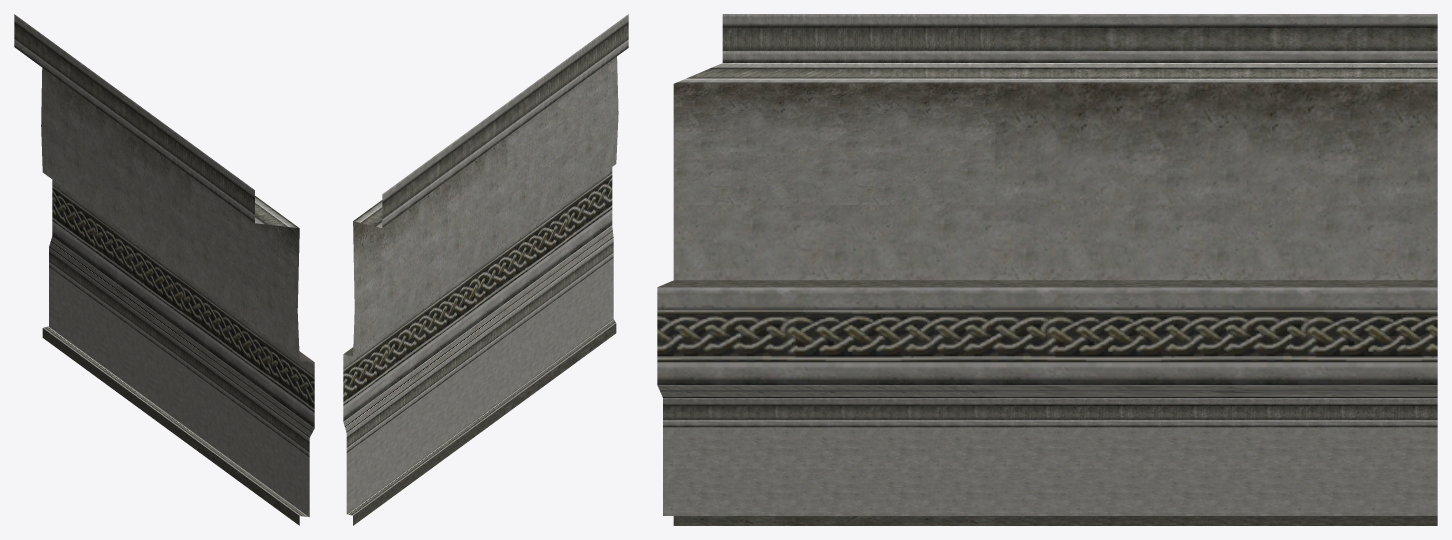
Rendered from DWARF_PALACE_ARKSTONE_ROOM_BACKWALLB01.fbx.
The picture shows the model from 3 angles, left to right: view 1: azimuth 30°, elevation 25°; view 2: azimuth 150°, elevation 25°; view 3: azimuth 270°, elevation 25°; orthographic projection. The views are drawn at different scales.
Parts seen in each view (by area): view 1: DWARF_PALACE_ARKSTONE_ROOM_BACKWALLB01; view 2: DWARF_PALACE_ARKSTONE_ROOM_BACKWALLB01; view 3: DWARF_PALACE_ARKSTONE_ROOM_BACKWALLB01.
Boxes of the visible parts, x1,y1,x2,y2 form: DWARF_PALACE_ARKSTONE_ROOM_BACKWALLB01: (14, 14, 314, 525); DWARF_PALACE_ARKSTONE_ROOM_BACKWALLB01: (343, 14, 628, 525); DWARF_PALACE_ARKSTONE_ROOM_BACKWALLB01: (657, 14, 1437, 525).
Bounding box in the file's own units: 12004 × 100000 × 143867.
6 materials, 6 textured.
